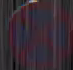No Stopping: (6, 3, 67, 63)
